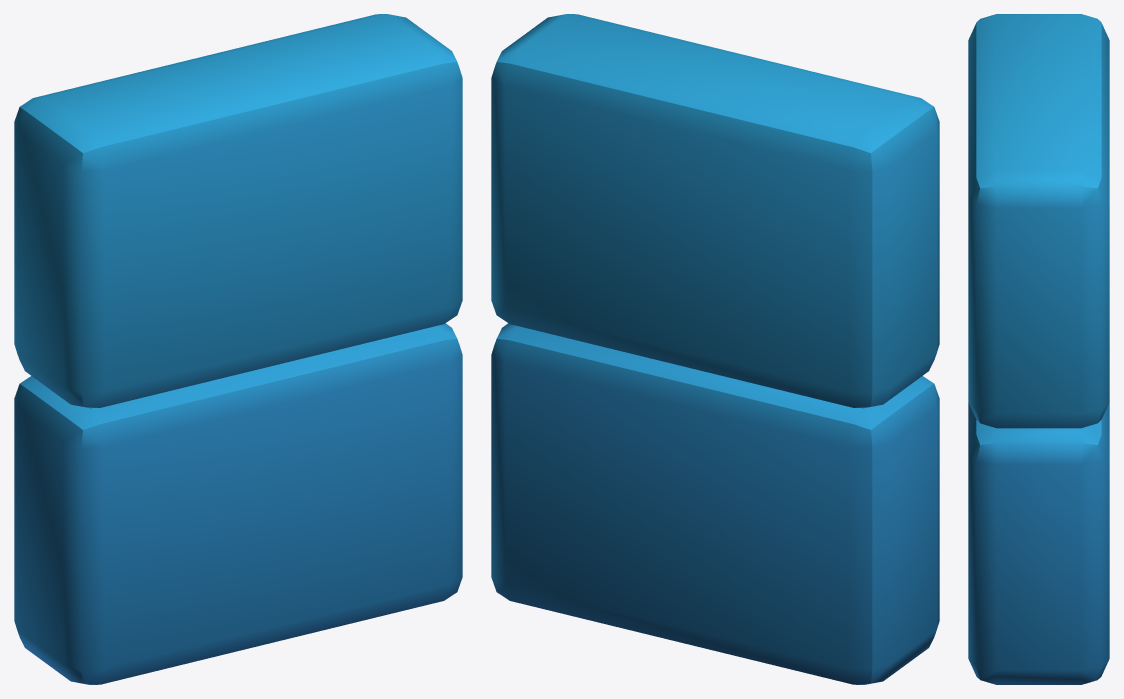
Rendered from barrier_3x1x4_blue.glb.
The picture shows the model from 3 angles, left to right: view 1: azimuth 30°, elevation 25°; view 2: azimuth 150°, elevation 25°; view 3: azimuth 270°, elevation 25°; orthographic projection. The views are drawn at different scales.
Parts seen in each view (by area): view 1: barrier_3x1x4_blue; view 2: barrier_3x1x4_blue; view 3: barrier_3x1x4_blue.
Boxes of the visible parts, box(x1,y1,x2,y2) form: barrier_3x1x4_blue: box(14, 14, 462, 684); barrier_3x1x4_blue: box(491, 14, 939, 684); barrier_3x1x4_blue: box(968, 14, 1109, 684).
Bounding box in the file's own units: 3 × 4 × 1.
Materials: 1 (1 with a texture image).
